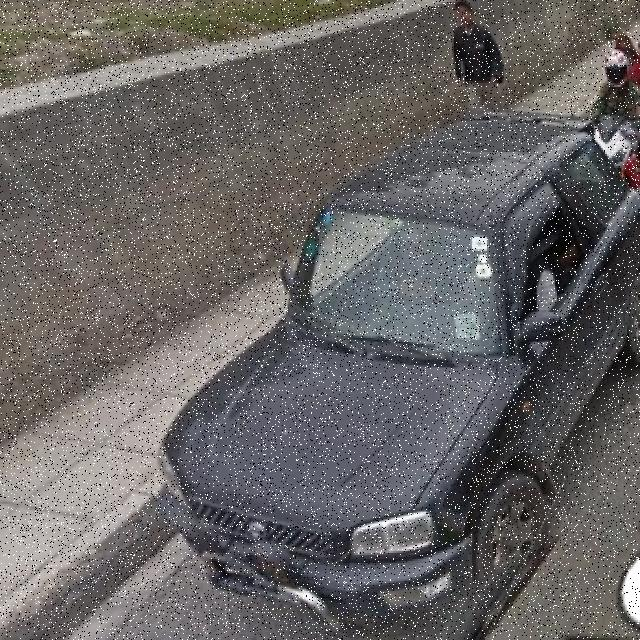cars: (168, 101, 640, 638)
